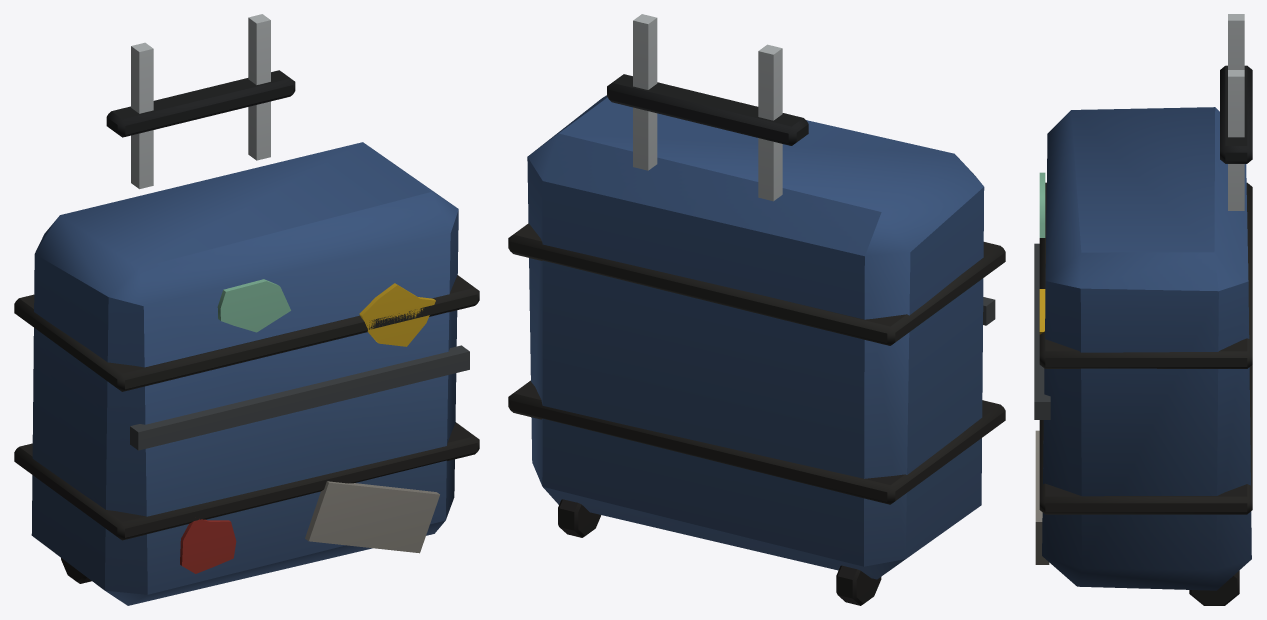
File: 79_valise.fbx
3 renders of one model, left to right at view 1: azimuth 30°, elevation 25°; view 2: azimuth 150°, elevation 25°; view 3: azimuth 270°, elevation 25°, orthographic. The views are drawn at different scales.
Visible parts, largest first — view 1: Valise; view 2: Valise; view 3: Valise.
Boxes of the visible parts, x1,y1,x2,y2 form: Valise: (14, 14, 479, 605); Valise: (508, 14, 1005, 605); Valise: (1034, 14, 1252, 605).
Bounding box in the file's own units: 0.42 × 0.56 × 0.224.
1 material, 1 textured.
